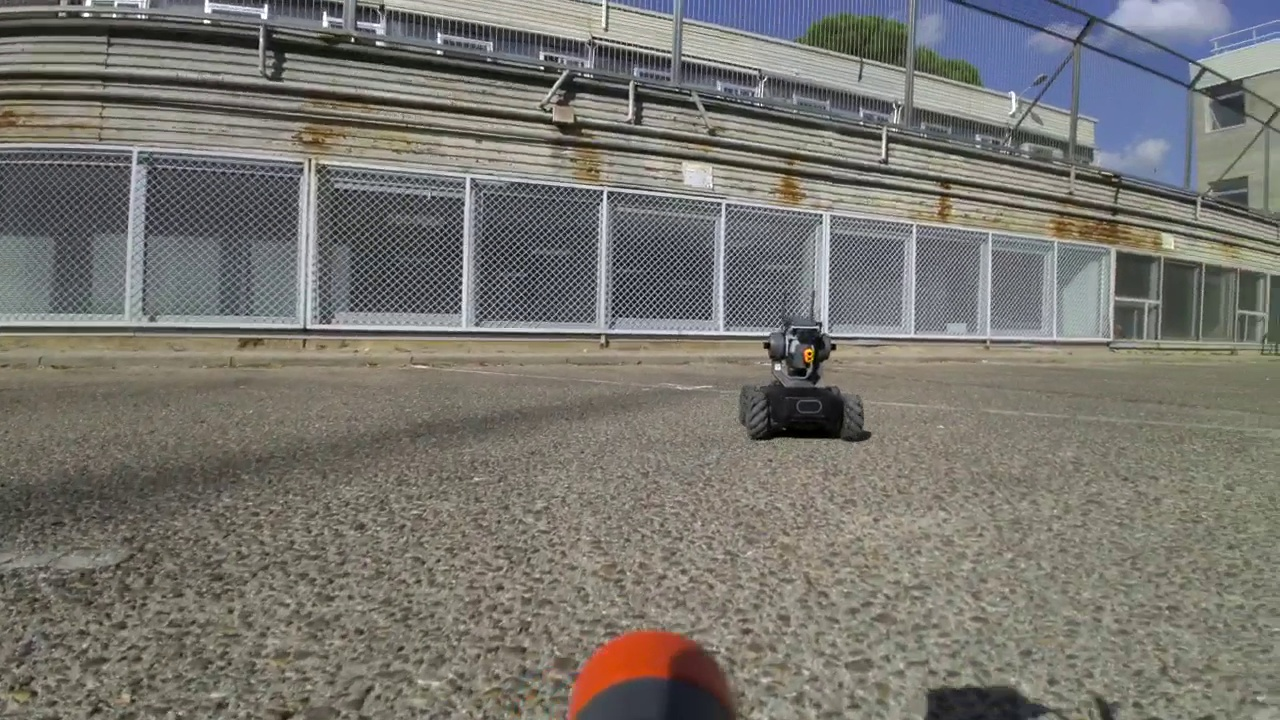robot: (736, 289, 867, 445)
